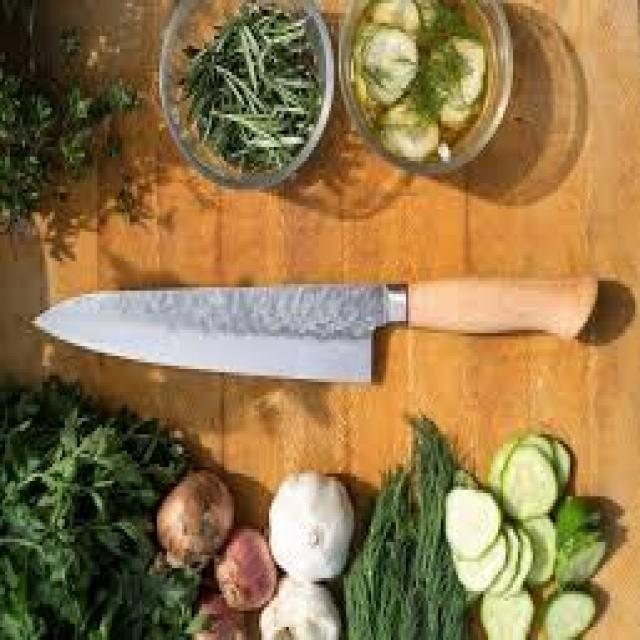Knife: (32, 274, 620, 382)
